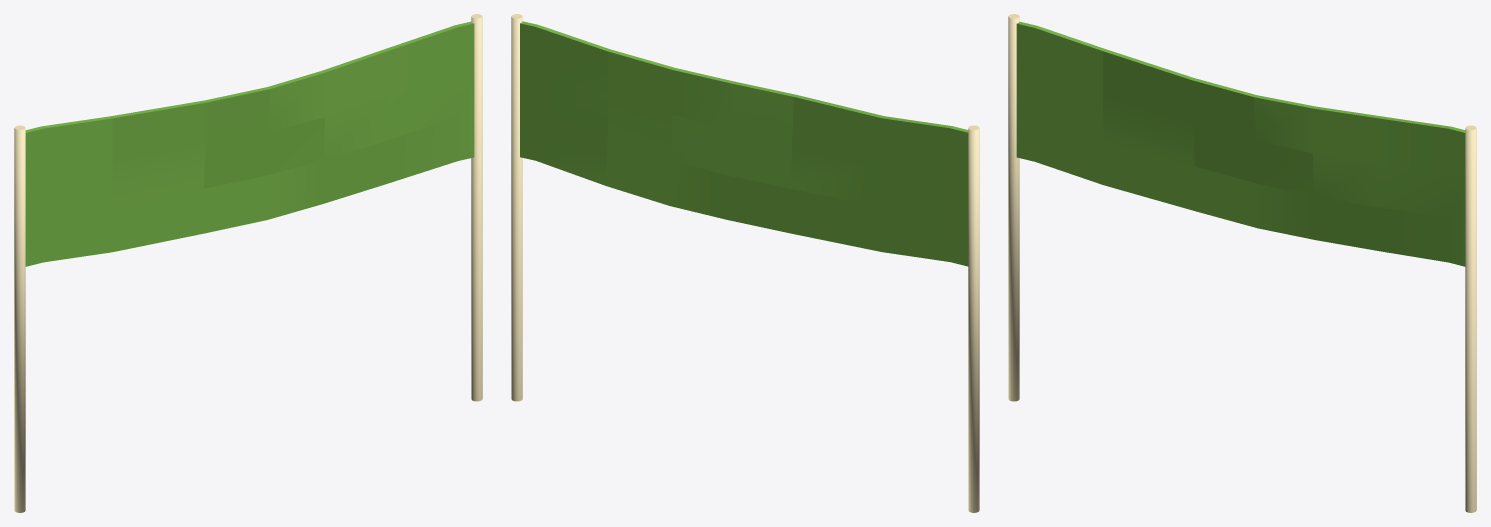
The model's file is greenFlag.fbx.
The picture shows the model from 3 angles, left to right: view 1: azimuth 30°, elevation 25°; view 2: azimuth 150°, elevation 25°; view 3: azimuth 330°, elevation 25°; orthographic projection.
Visible parts, largest first — view 1: goalflag; view 2: goalflag; view 3: goalflag.
Boxes of the visible parts, bbox=[...] form: goalflag: bbox=[14, 14, 482, 512]; goalflag: bbox=[511, 14, 979, 512]; goalflag: bbox=[1008, 14, 1476, 512].
Size of the model in its own units: 5696 by 4465 by 170.
